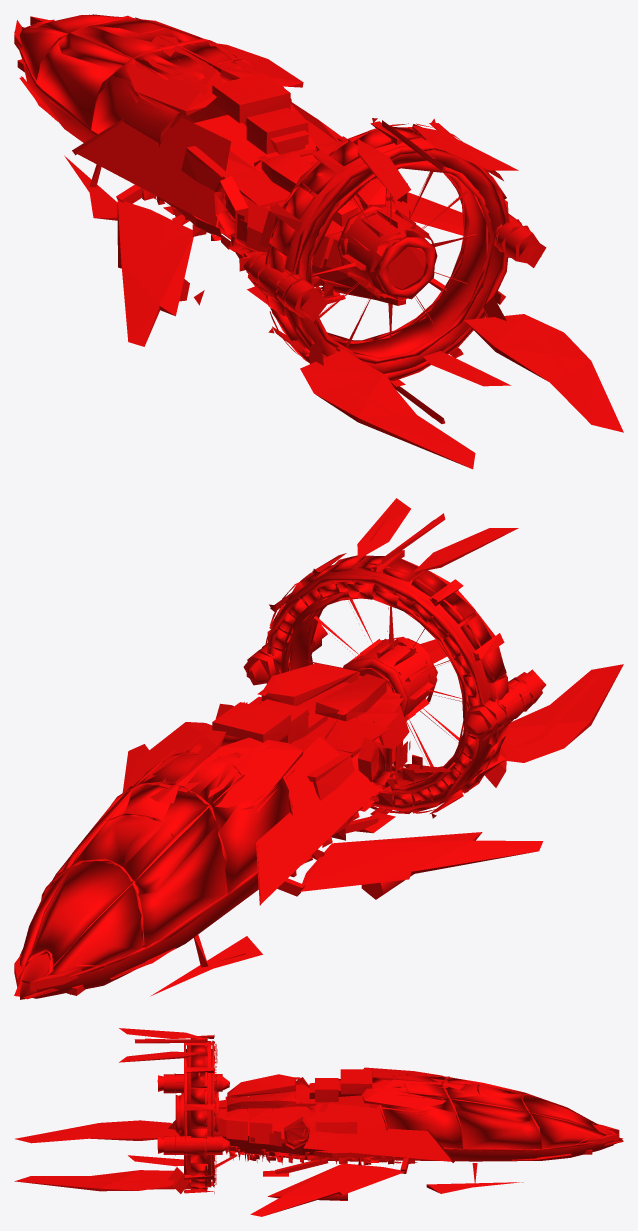
Rendered from OCASO-1-low.obj.
3 views of the same model, one above another, from view 1: azimuth 30°, elevation 25°; view 2: azimuth 150°, elevation 25°; view 3: azimuth 270°, elevation 25° (orthographic). The views are drawn at different scales.
Size of the model in its own units: 8.08 by 4.89 by 18.02.
